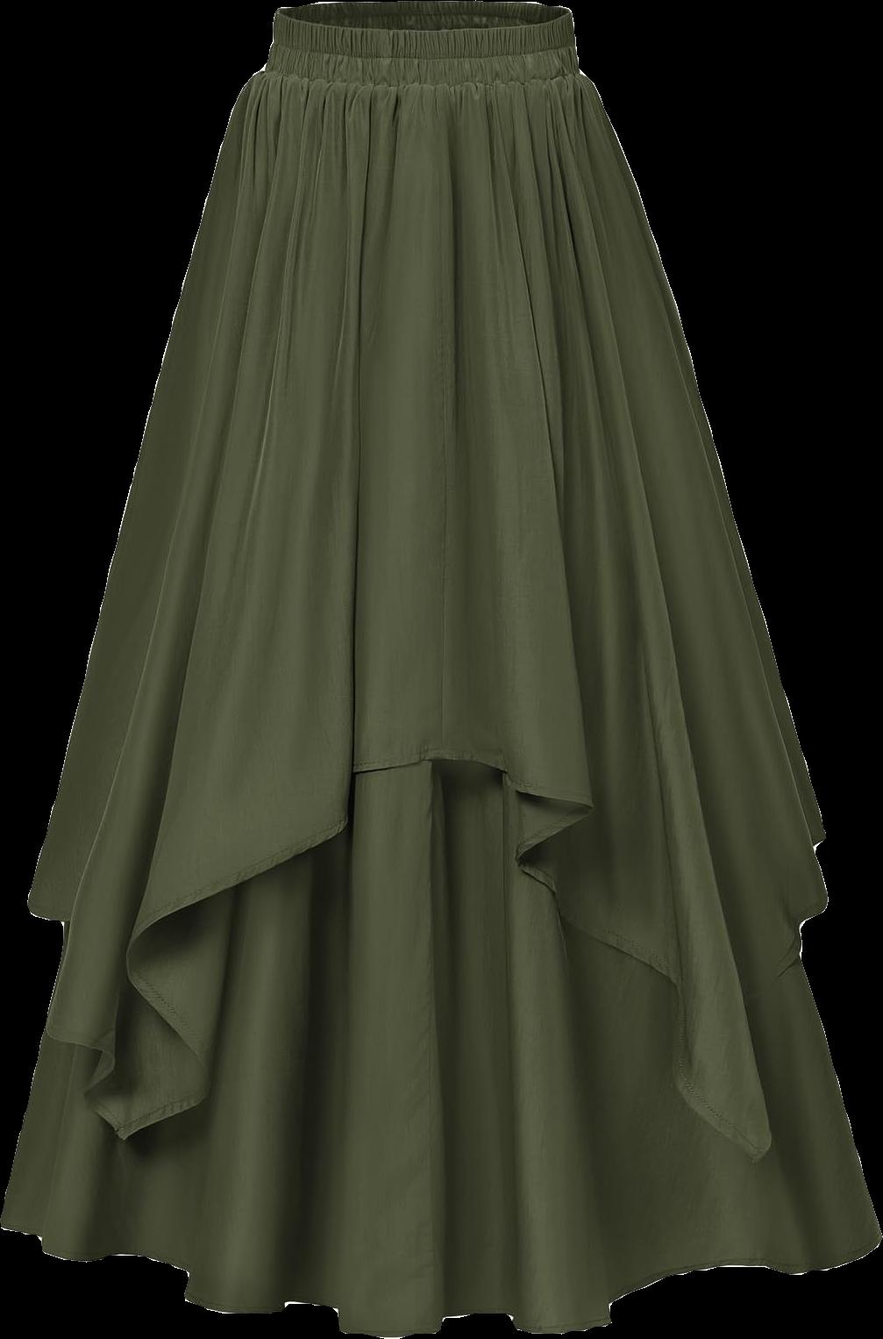Hemline: (23, 751, 837, 1168), (0, 1220, 882, 1338)
Waistline: (260, 63, 587, 104), (273, 4, 575, 42)
